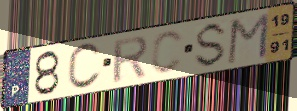8: (33, 49, 62, 97)
C: (65, 41, 104, 92), (149, 28, 186, 76)
M: (225, 11, 271, 67)
R: (111, 34, 150, 85)
S: (192, 20, 229, 70)
